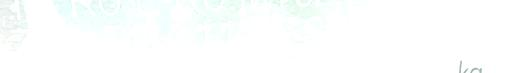letter: (8, 27, 38, 64), (270, 15, 298, 54), (160, 21, 188, 58), (128, 21, 156, 58), (100, 22, 124, 61), (68, 26, 96, 59), (301, 14, 327, 49), (40, 27, 64, 64), (465, 7, 489, 42), (356, 12, 380, 47), (384, 12, 408, 47), (436, 9, 460, 42), (216, 17, 236, 56), (411, 9, 433, 44), (244, 16, 262, 55), (192, 18, 210, 55), (334, 13, 350, 50)
